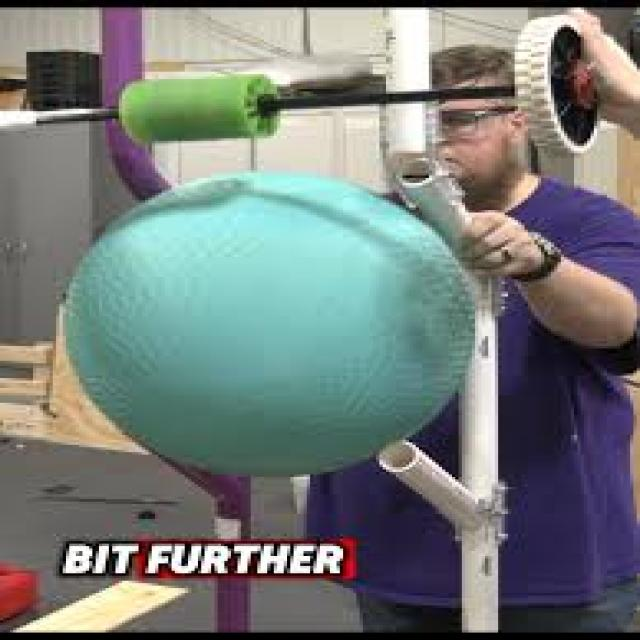algae: (59, 173, 478, 479)
